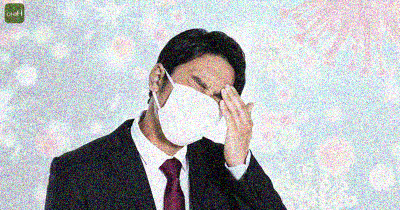with_mask: (154, 74, 228, 147)
